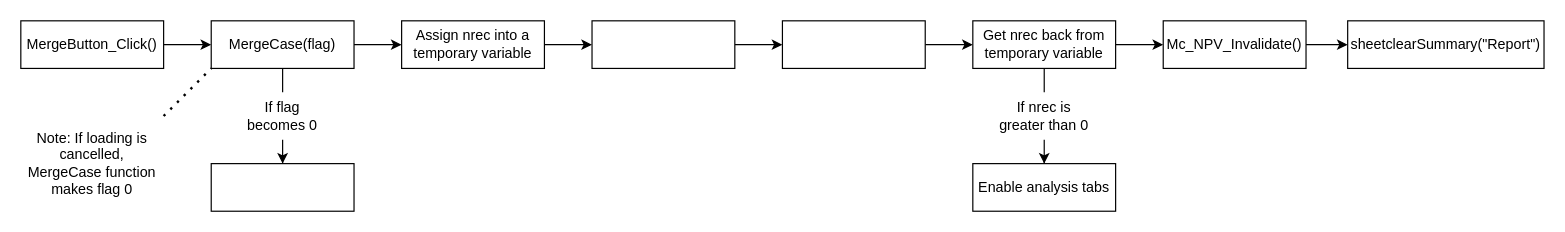
The diagram is 1565 pixels wide and 232 high, and some of its shapes have lost their labels. The box of each missing label's shape, as (x1, y1, x2, y2) in pixels:
clear_Engpage(): (591, 20, 735, 68)
clear_NPVpage(): (781, 20, 925, 68)
Do nothing and exit function: (210, 162, 354, 211)
